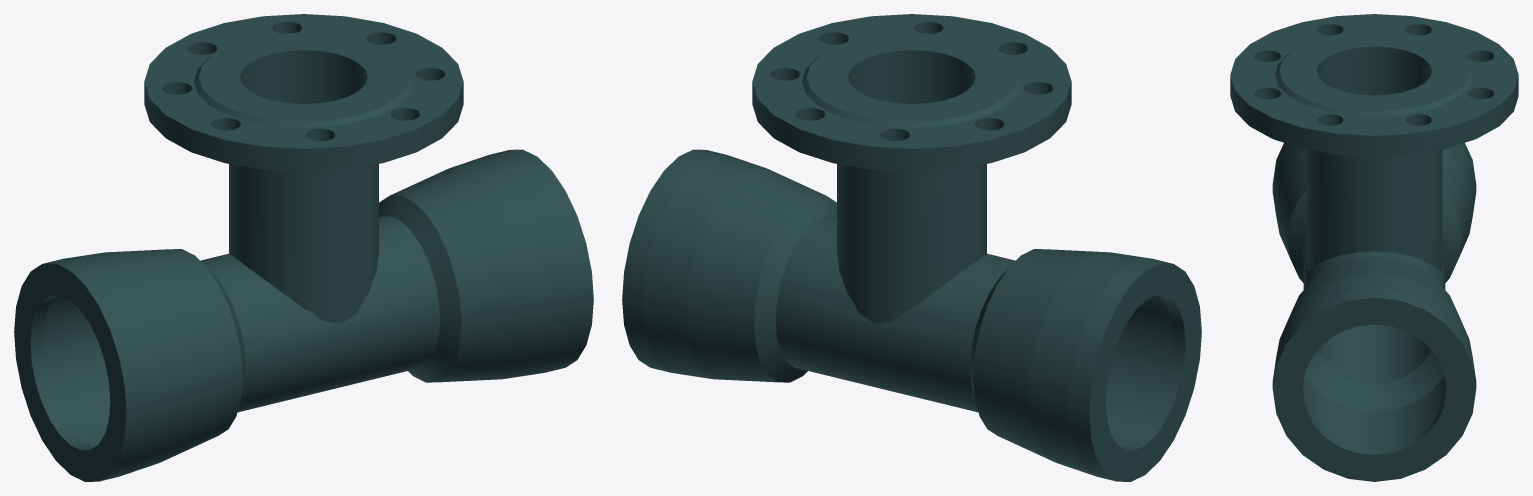
The picture shows the model from 3 angles, left to right: view 1: azimuth 30°, elevation 25°; view 2: azimuth 150°, elevation 25°; view 3: azimuth 270°, elevation 25°; orthographic projection. The views are drawn at different scales.
Visible parts, largest first — view 1: RFMMA-0808TY40EET(400); view 2: RFMMA-0808TY40EET(400); view 3: RFMMA-0808TY40EET(400).
Boxes of the visible parts, x1=… form: RFMMA-0808TY40EET(400): x1=14, y1=14, x2=593, y2=481; RFMMA-0808TY40EET(400): x1=622, y1=14, x2=1201, y2=481; RFMMA-0808TY40EET(400): x1=1230, y1=14, x2=1518, y2=481.
Size of the model in its own units: 0.338 by 0.2355 by 0.2.
